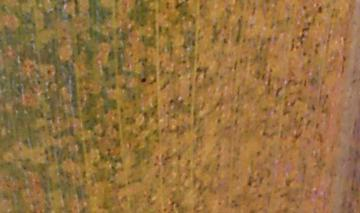tarspot: (139, 75, 149, 85), (317, 5, 324, 14)
